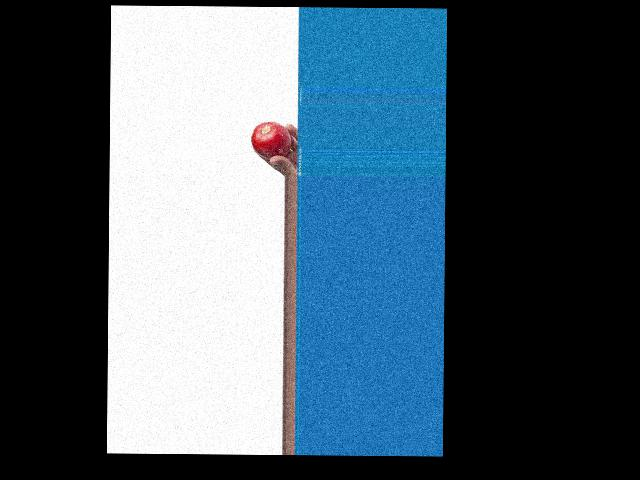tomato: (251, 121, 291, 159)
